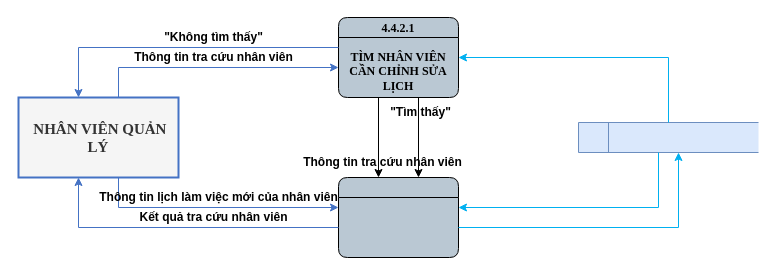
The diagram is 776 pixels wide and 275 high, and some of its shapes have lost their labels. The centre of each missing label's shape, as x and y in pixels:
17 Danh sách lịch làm việc: point 668,137
4.4.2.2 CẬP NHẬT LỊCH LÀM VIỆC NHÂN VIÊN: point 398,217
